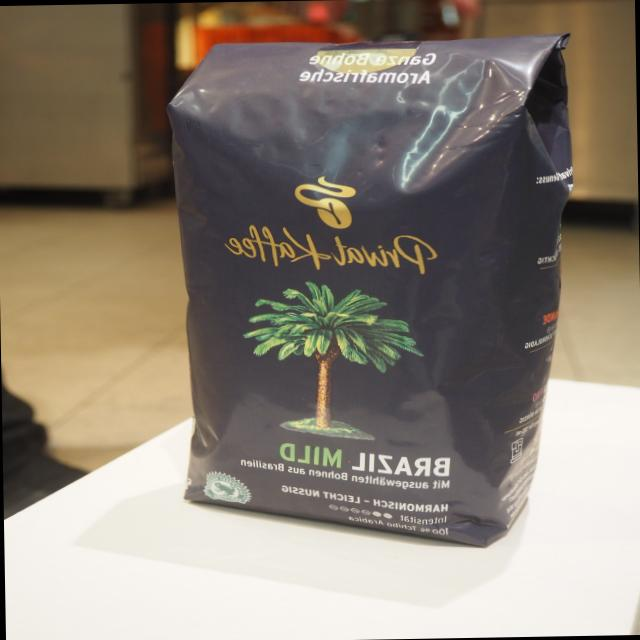BM Bohne: (163, 27, 616, 562)
